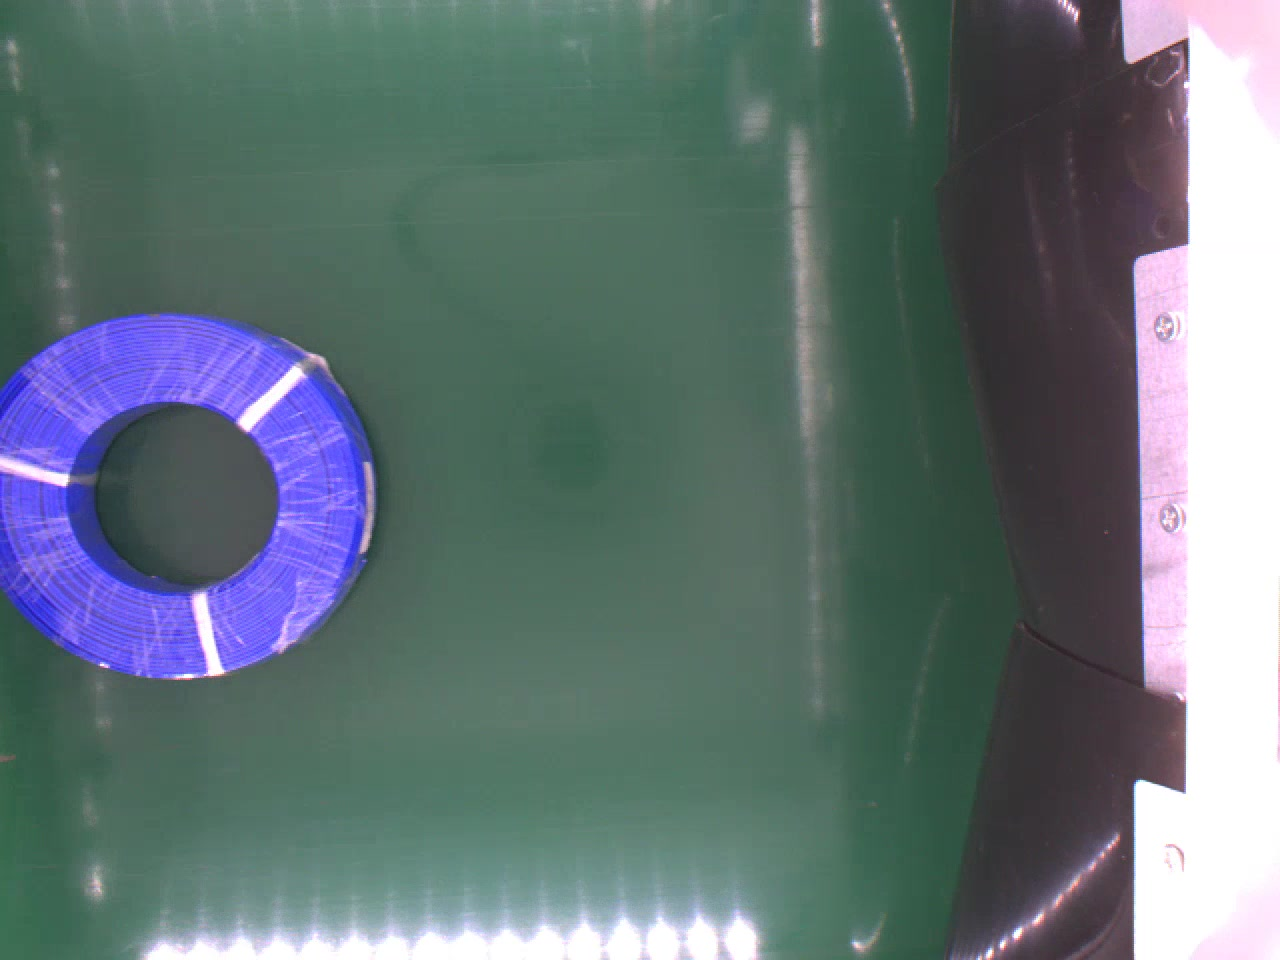blue: (2, 310, 379, 678)
